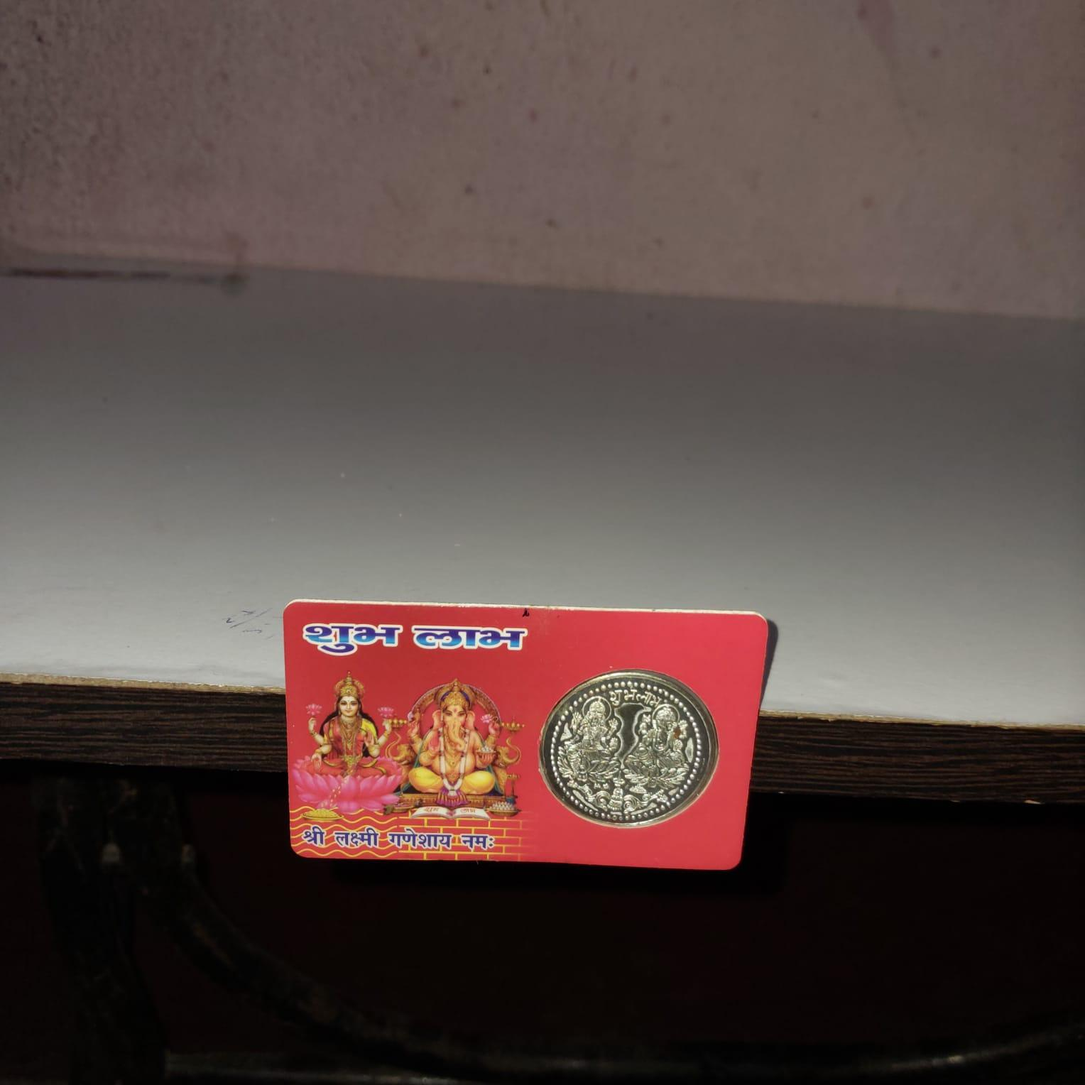blessing_card: (283, 607, 775, 869)
